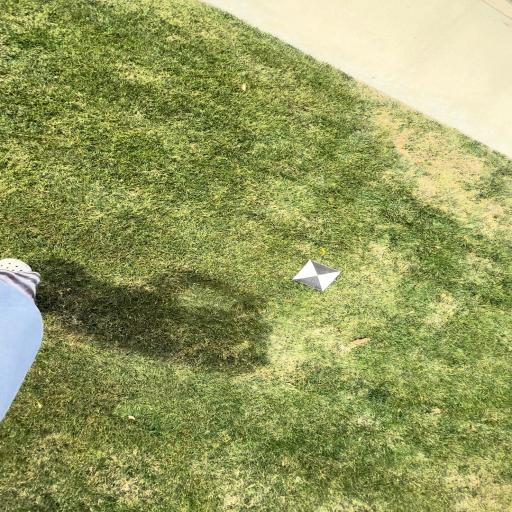target: (292, 260, 341, 291)
